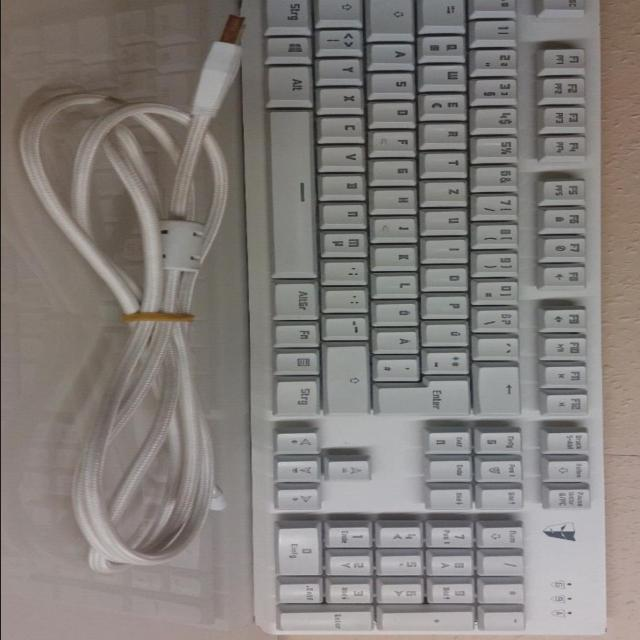0: (476, 279, 524, 303)
1: (476, 19, 522, 43)
2: (475, 47, 523, 72)
3: (475, 76, 523, 103)
4: (475, 106, 523, 132)
5: (476, 135, 524, 161)
6: (476, 164, 524, 190)
7: (476, 193, 524, 217)
8: (476, 221, 524, 246)
9: (476, 250, 524, 276)
a: (373, 42, 421, 66)
accent: (479, 334, 525, 358)
ae: (378, 328, 424, 352)
alt-left: (270, 64, 318, 102)
altgr-right: (278, 279, 324, 318)
b: (323, 172, 371, 198)
c: (323, 115, 371, 141)
caret: (477, 0, 521, 10)
comma: (327, 259, 373, 283)
d: (373, 100, 421, 124)
del: (481, 363, 525, 413)
e: (424, 92, 472, 118)
enter: (380, 377, 476, 413)
f: (375, 129, 421, 153)
g: (376, 158, 422, 182)
h: (376, 186, 422, 212)
hash: (378, 355, 424, 379)
i: (427, 237, 473, 261)
j: (375, 216, 423, 240)
k: (377, 244, 423, 268)
keyboard: (242, 0, 614, 640)
l: (377, 272, 423, 296)
less: (320, 27, 368, 50)
m: (325, 229, 374, 255)
minus: (327, 314, 373, 338)
n: (326, 202, 372, 226)
o: (428, 265, 472, 289)
oe: (377, 300, 423, 324)
p: (428, 293, 474, 317)
plus: (428, 348, 474, 372)
point: (328, 287, 372, 310)
q: (423, 34, 471, 58)
r: (426, 122, 472, 147)
s: (374, 71, 420, 95)
shift-left: (321, 0, 365, 20)
shift-lock: (371, 0, 419, 35)
shift-right: (328, 343, 376, 411)
space: (273, 108, 321, 276)
ss: (477, 306, 525, 330)
strg-left: (269, 0, 317, 28)
strg-right: (278, 377, 324, 415)
t: (427, 150, 473, 174)
tab: (426, 0, 470, 25)
u: (427, 208, 473, 233)
ue: (428, 320, 474, 344)
v: (323, 144, 371, 170)
w: (424, 63, 472, 89)
x: (322, 86, 368, 111)
y: (321, 57, 367, 81)
z: (427, 179, 473, 203)
